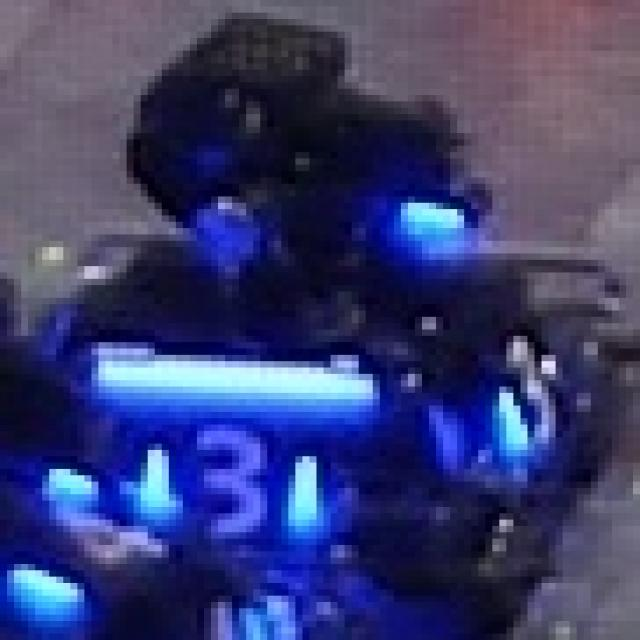B3: (140, 418, 324, 539)
